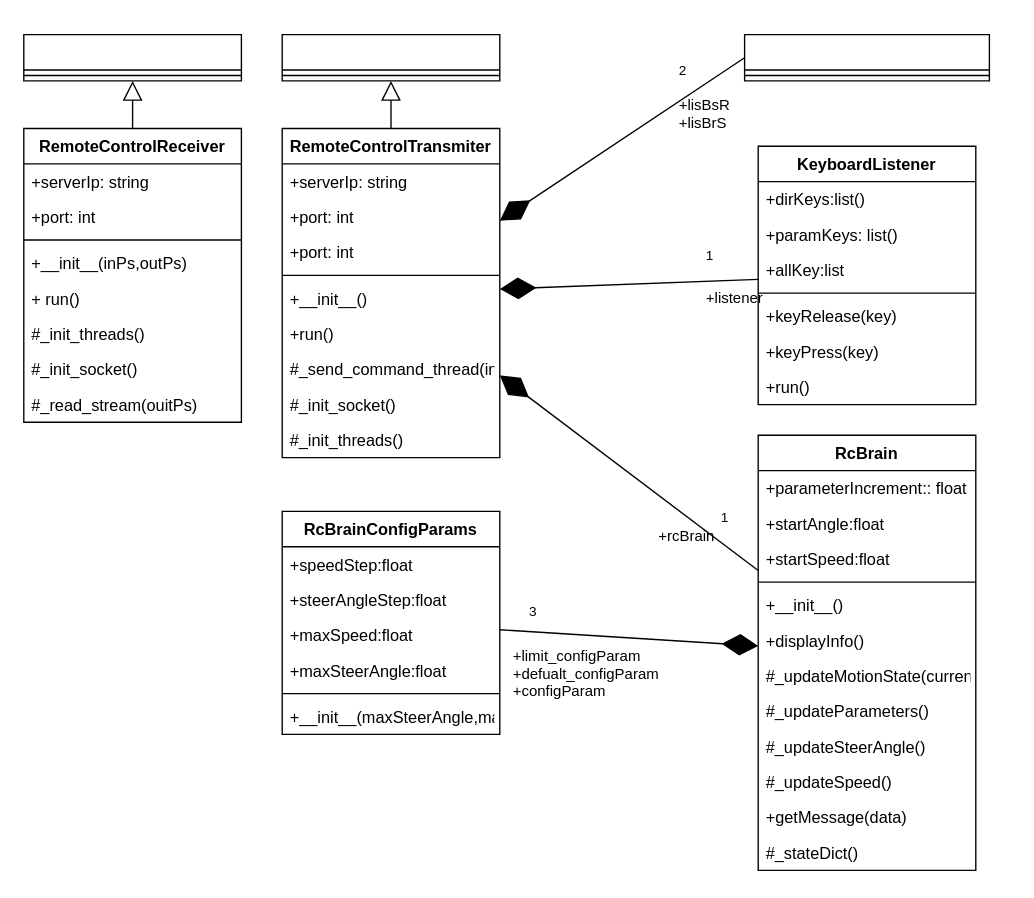
The diagram is 1034 pixels wide and 898 high, and some of its shapes have lost their labels. Here are the shapes that lost their labels. From the top down, the box of each, then its label:
(22, 33, 241, 81): WorkerProcess
(281, 33, 500, 81): Thread
(743, 33, 989, 81): multiprocessing.Connection
